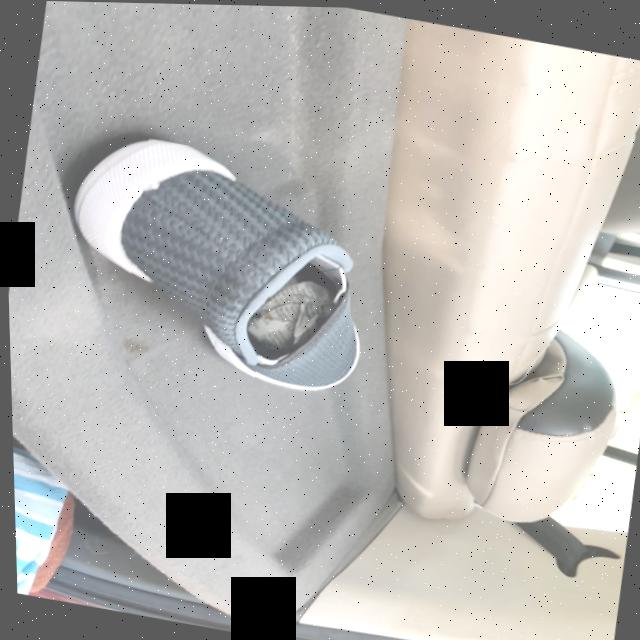shoe: (70, 139, 358, 393)
